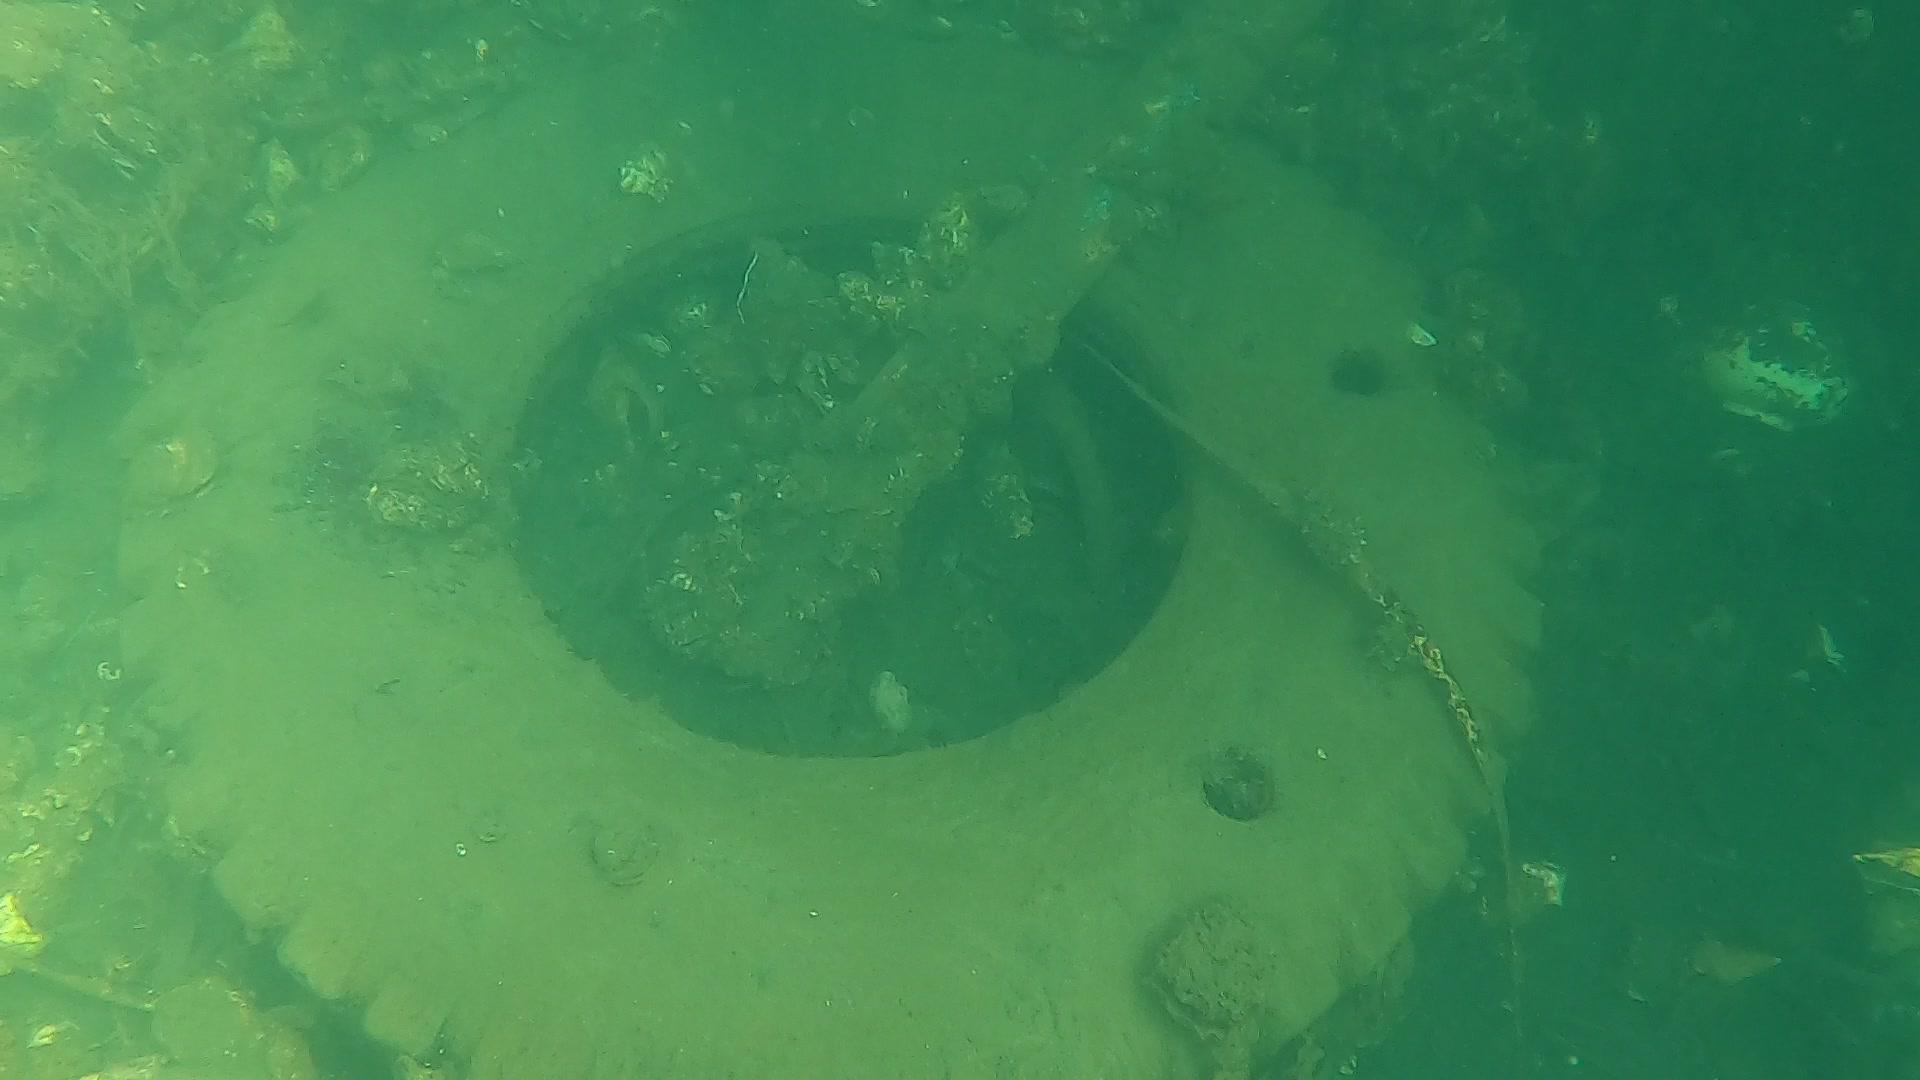tire: (107, 42, 1549, 1080)
